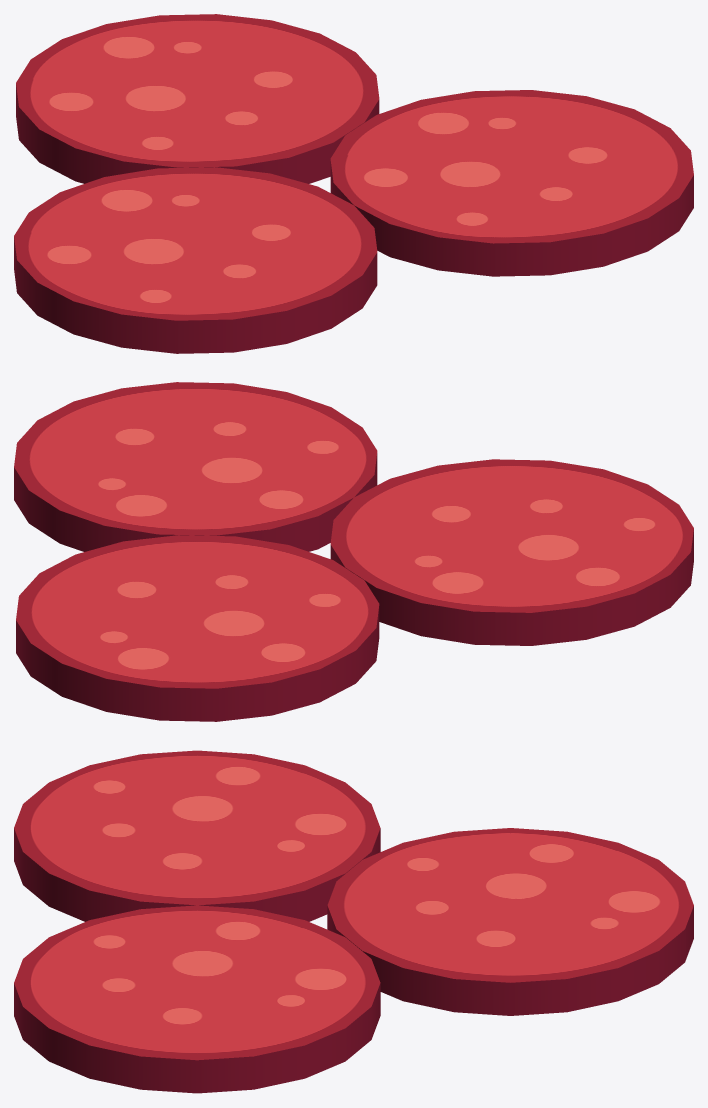
The model's file is Salami_Slice.glb.
The picture shows the model from 3 angles, top to bottom: view 1: azimuth 30°, elevation 25°; view 2: azimuth 150°, elevation 25°; view 3: azimuth 270°, elevation 25°; orthographic projection.
Parts seen in each view (by area): view 1: Salami_Slice; view 2: Salami_Slice; view 3: Salami_Slice.
Boxes of the visible parts, <box> form: Salami_Slice: <box>14,14,693,353</box>; Salami_Slice: <box>14,382,693,721</box>; Salami_Slice: <box>14,750,693,1093</box>.
Bounding box in the file's own units: 20 × 1 × 18.55.
Materials: 1 (1 with a texture image).
